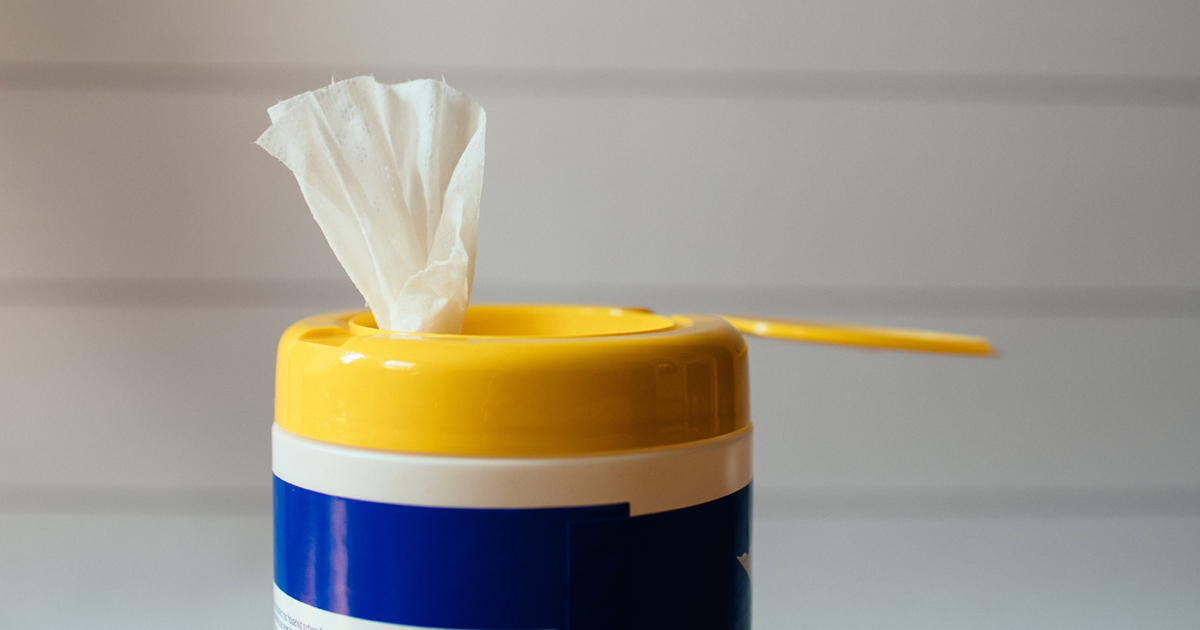Tissue: (253, 71, 489, 339)
